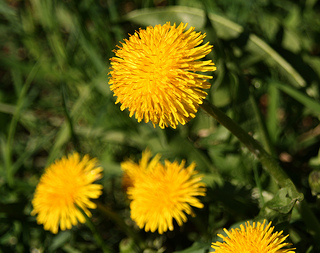dandelion yellow: (106, 21, 218, 130), (121, 148, 208, 235), (28, 151, 104, 235), (205, 216, 298, 253)
